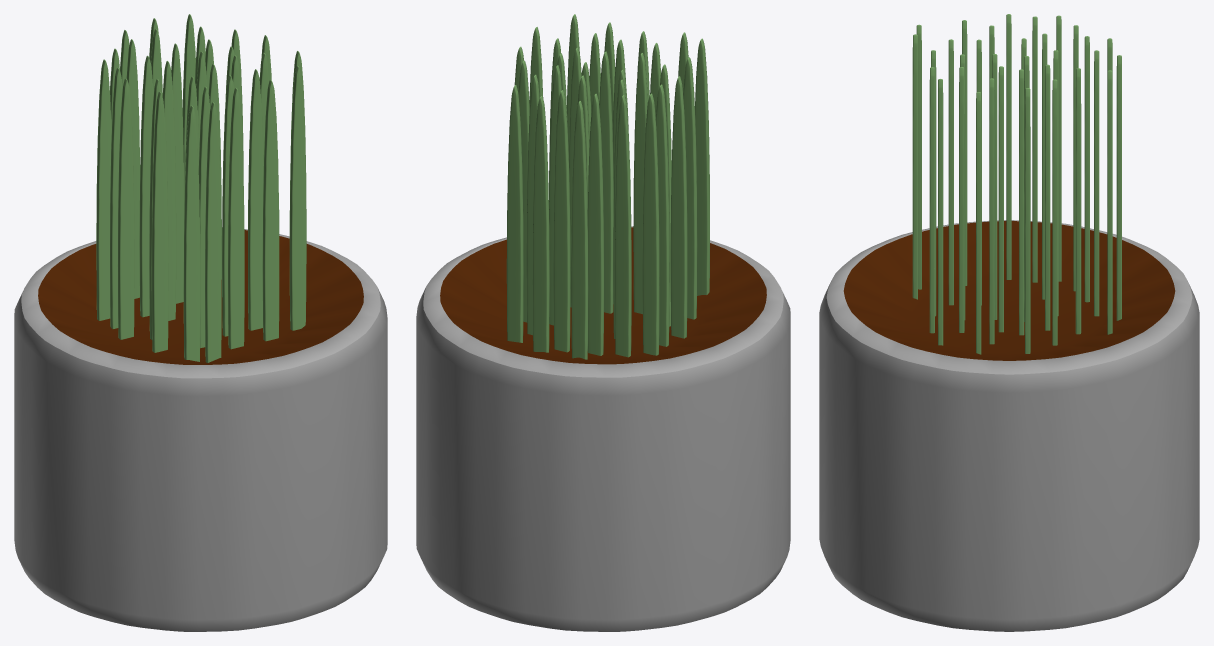
Rendered from Potplant.fbx.
3 views of the same model, side by side, from view 1: azimuth 30°, elevation 25°; view 2: azimuth 150°, elevation 25°; view 3: azimuth 270°, elevation 25° (orthographic).
Parts seen in each view (by area): view 1: group22_pasted__group12_pasted__pasted__group1_pasted__paste; view 2: group22_pasted__group12_pasted__pasted__group1_pasted__paste; view 3: group22_pasted__group12_pasted__pasted__group1_pasted__paste.
Part boxes in pixels (x1,y1,x2,y2): group22_pasted__group12_pasted__pasted__group1_pasted__paste: (14, 14, 387, 631); group22_pasted__group12_pasted__pasted__group1_pasted__paste: (416, 14, 790, 631); group22_pasted__group12_pasted__pasted__group1_pasted__paste: (819, 14, 1199, 631).
Size of the model in its own units: 18.41 by 27.44 by 18.41.
